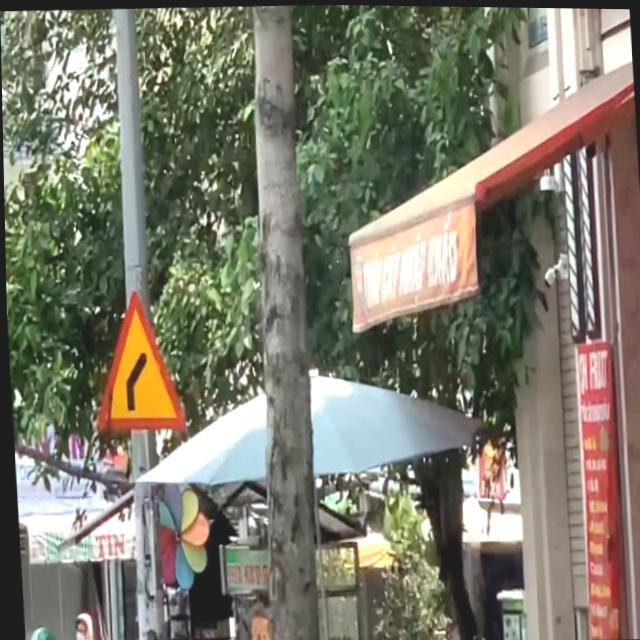cho ngoat nguy hiem vong ben phai: (81, 279, 191, 445)
